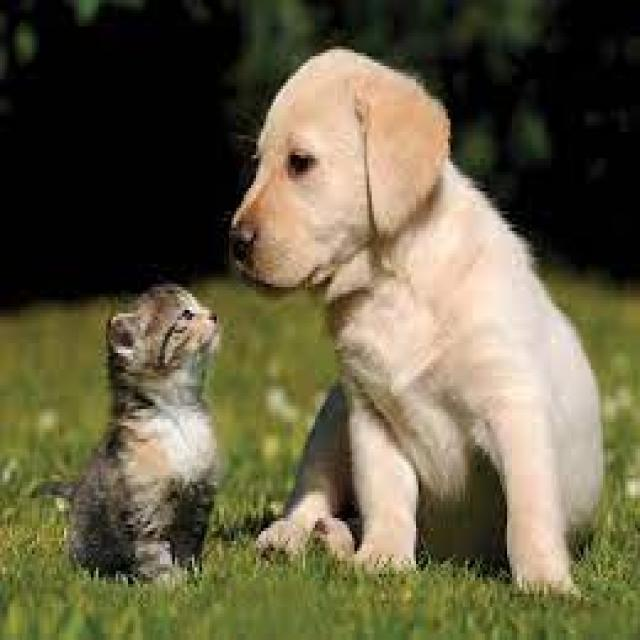dog: (222, 45, 616, 608), (62, 280, 222, 586)
